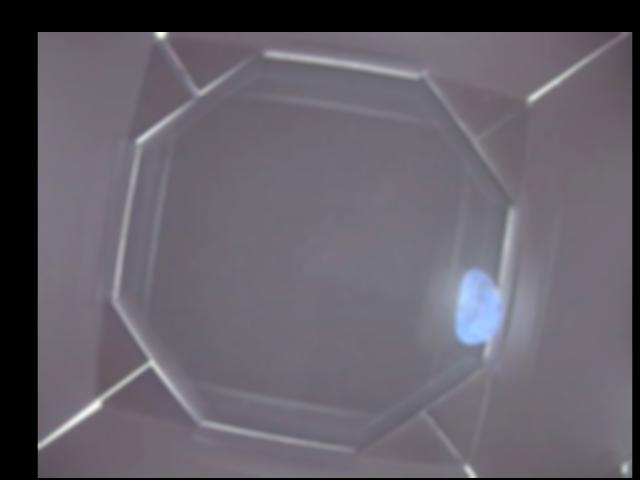Pebble: (458, 268, 505, 345)
